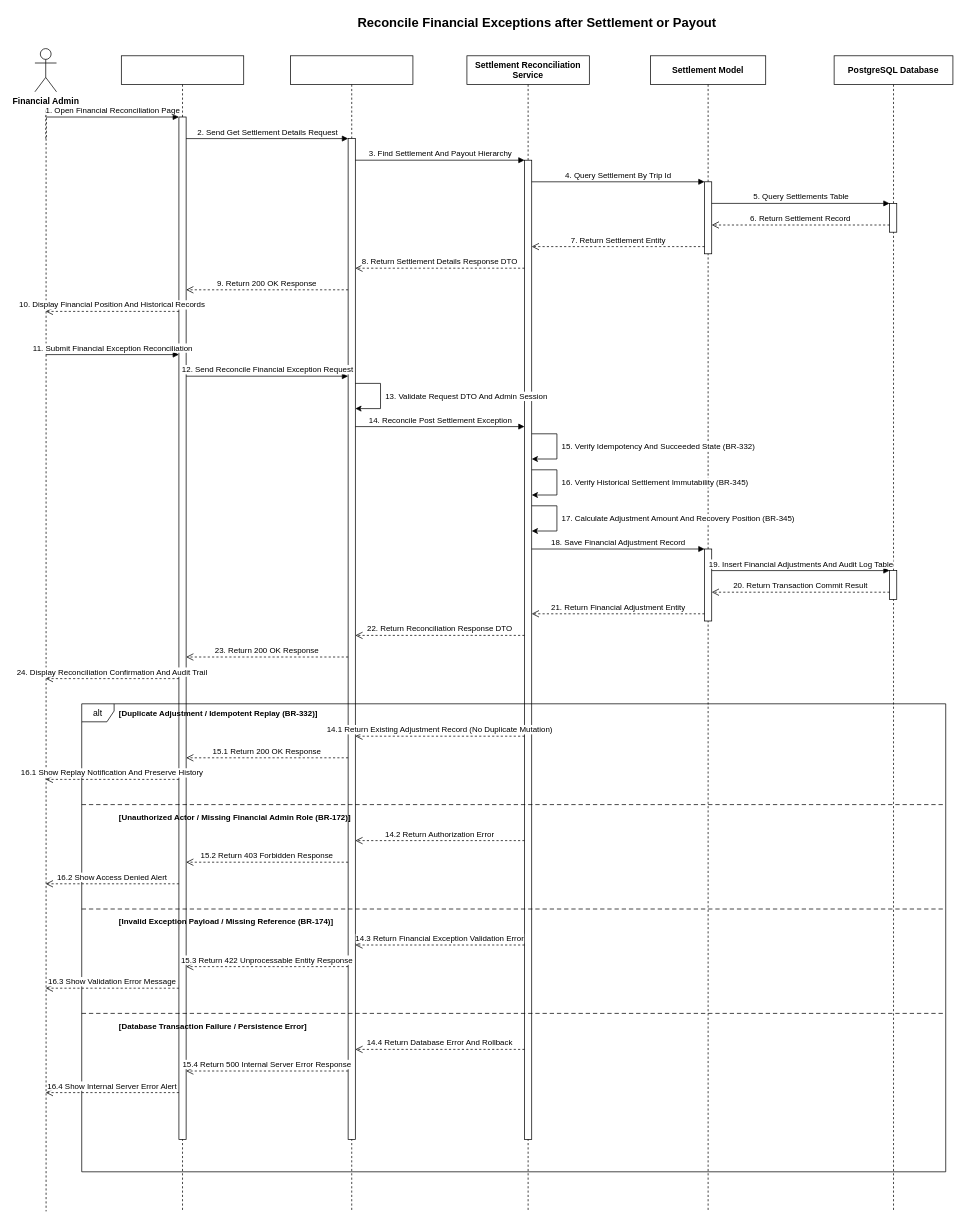
Image size: 966x1224. Some labels were removed from this diagram. Here are the shapes that lost their labels. From the top down, the box of each, then its label:
(121, 55, 244, 1211): Financial Reconciliation Screen
(290, 55, 413, 1211): Settlement Reconciliation Controller
